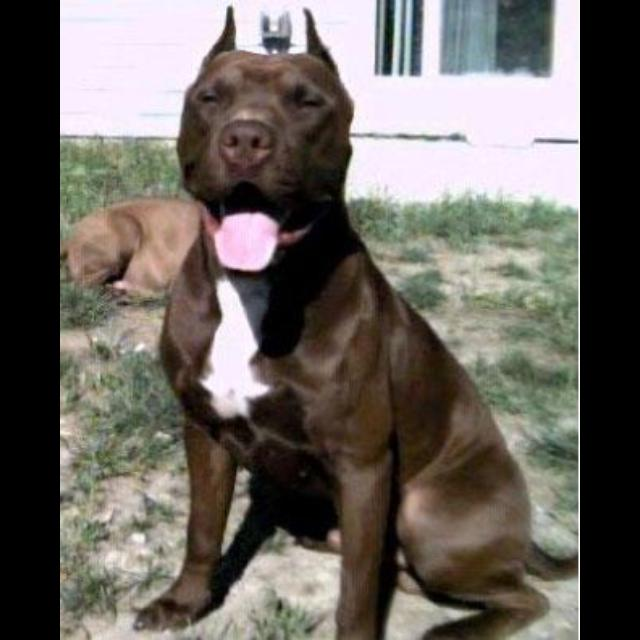staffford: (62, 5, 575, 640)
